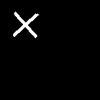single_crochet: (13, 12, 37, 37)
